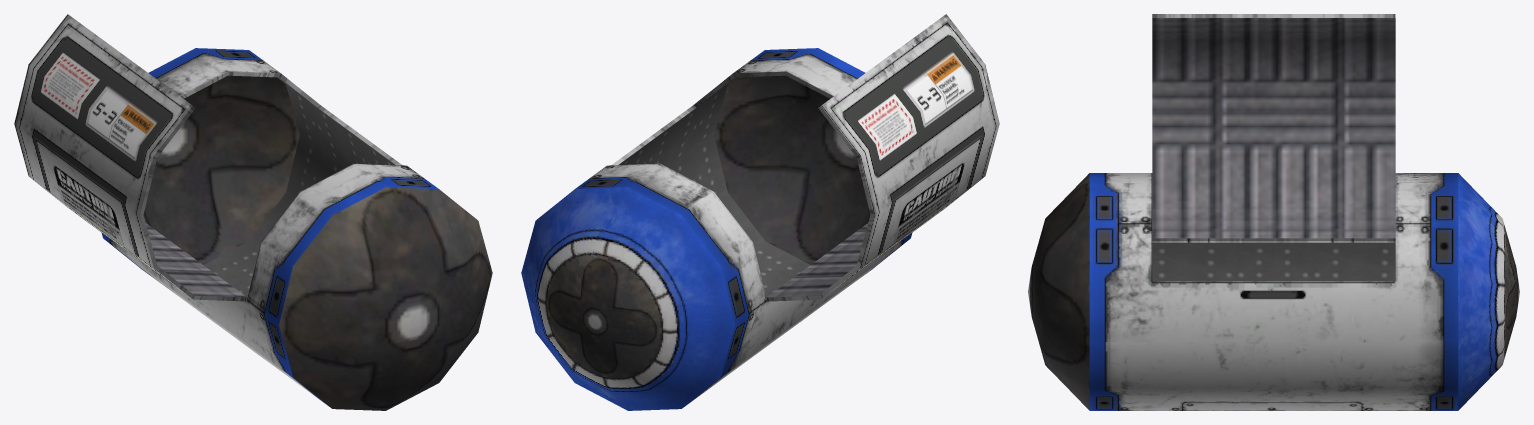
Rendered from base_pod_open.dae.
3 views of the same model, side by side, from view 1: azimuth 30°, elevation 25°; view 2: azimuth 150°, elevation 25°; view 3: azimuth 270°, elevation 25° (orthographic). The views are drawn at different scales.
Visible parts, largest first — view 1: base_pod_open; view 2: base_pod_open; view 3: base_pod_open.
Boxes of the visible parts, x1=… form: base_pod_open: x1=14, y1=14, x2=492, y2=410; base_pod_open: x1=521, y1=14, x2=999, y2=410; base_pod_open: x1=1028, y1=14, x2=1519, y2=410.
Size of the model in its own units: 7.71 by 10.58 by 7.36.
1 material, 1 textured.
